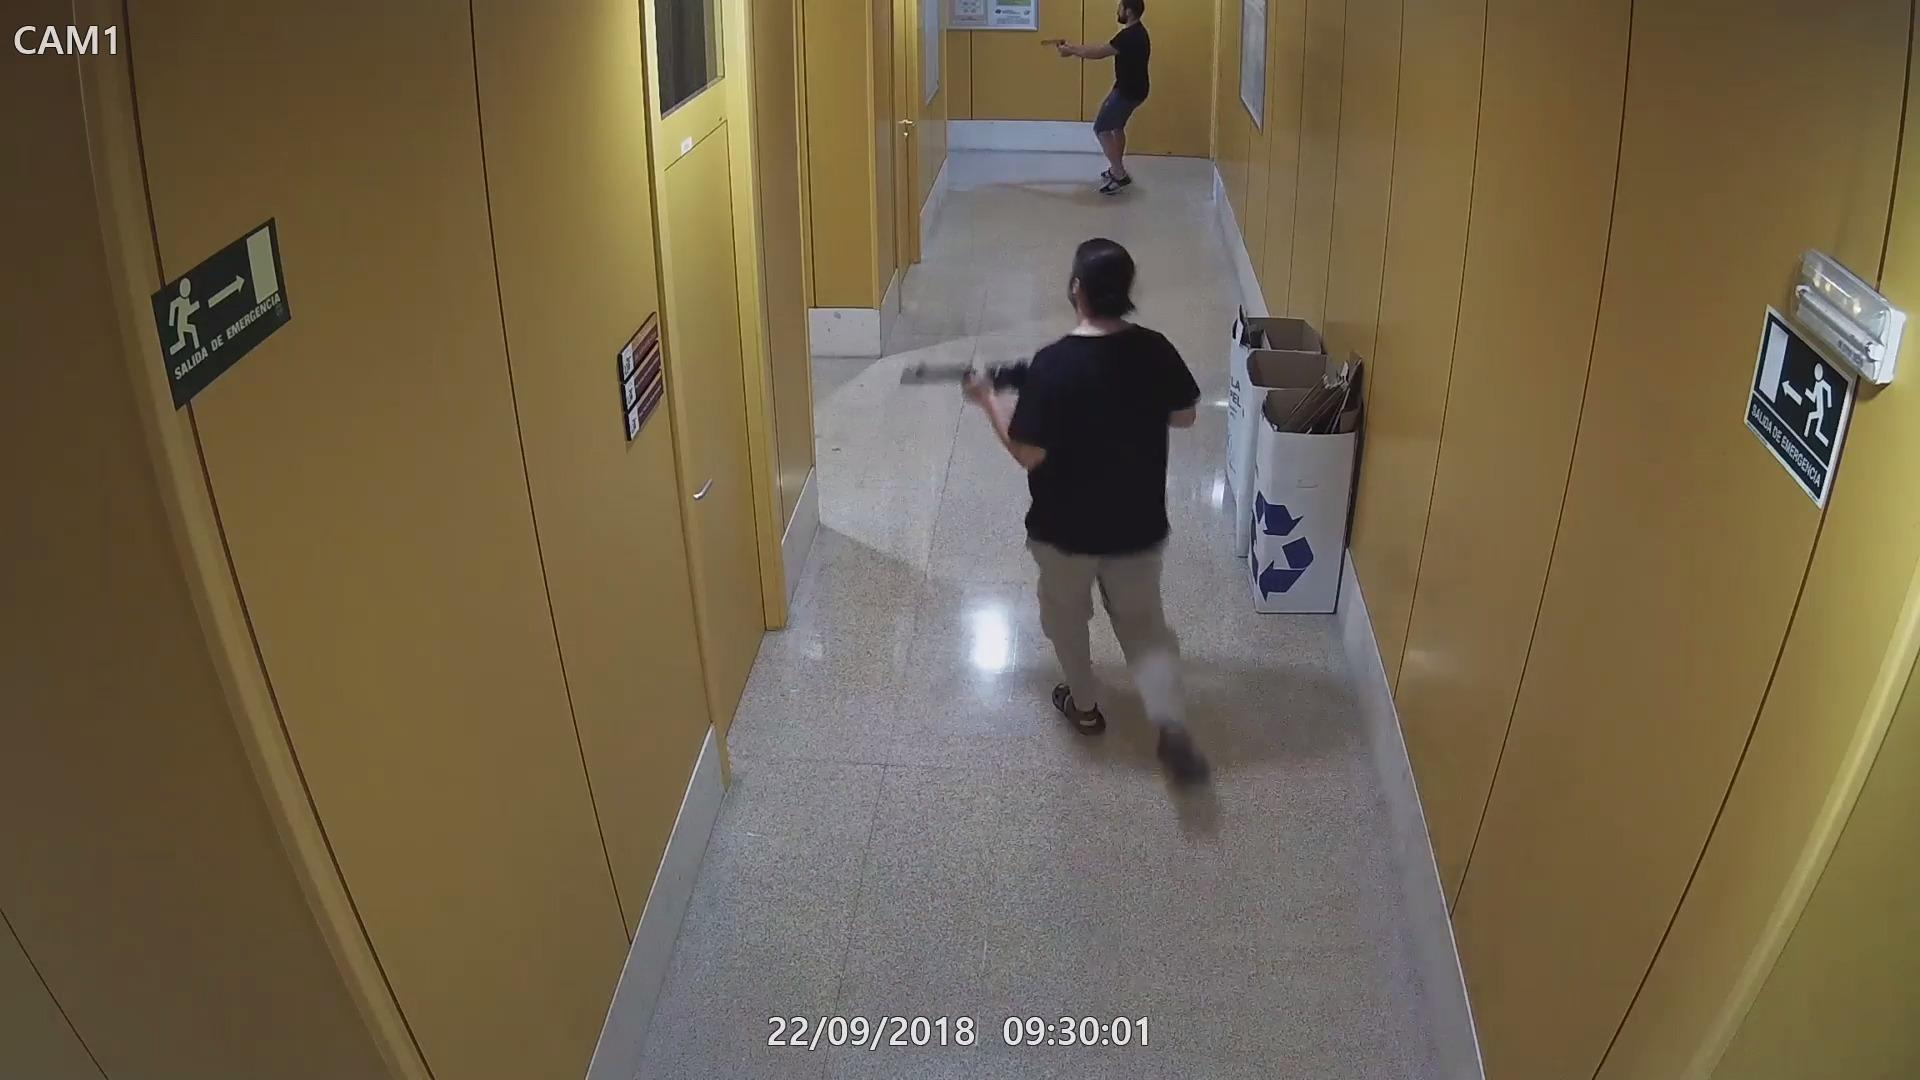Handgun: (1036, 33, 1072, 59)
